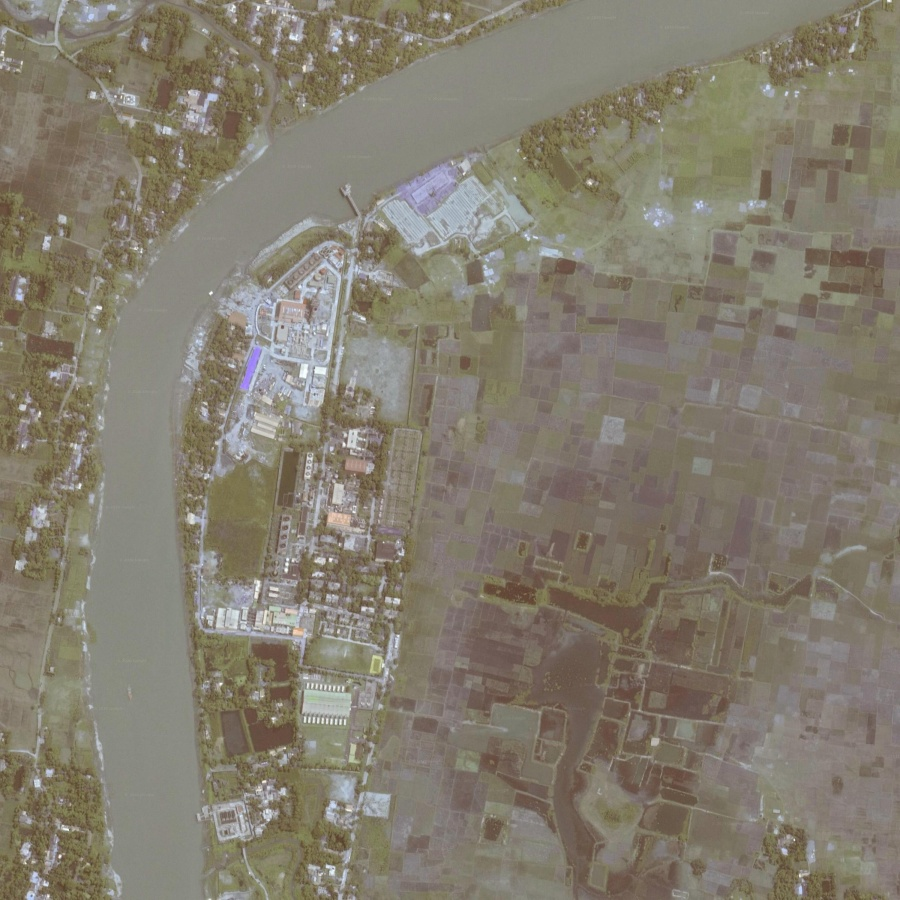PowerPlant: (267, 252, 338, 407)
